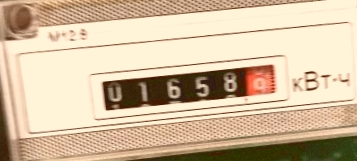0: (104, 79, 124, 102)
1: (134, 77, 151, 103)
5: (192, 72, 211, 98)
6: (163, 74, 184, 100)
8: (220, 69, 239, 93)
9: (250, 73, 268, 96)
screen: (84, 46, 295, 127)
